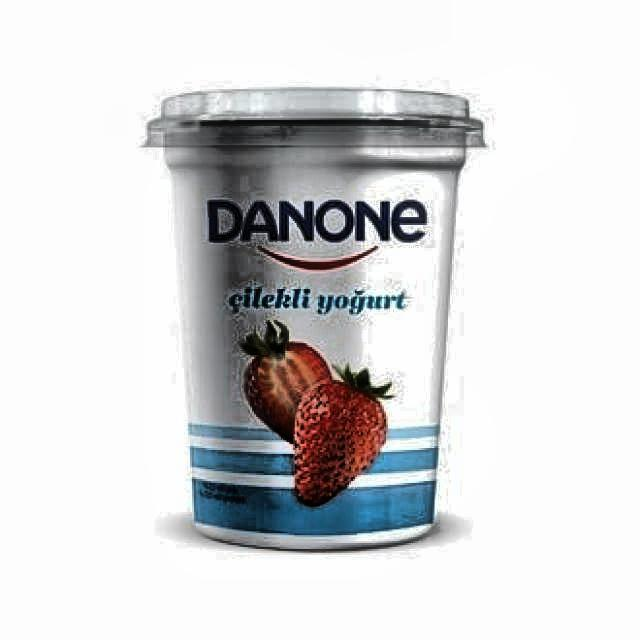plastic: (140, 86, 488, 554)
